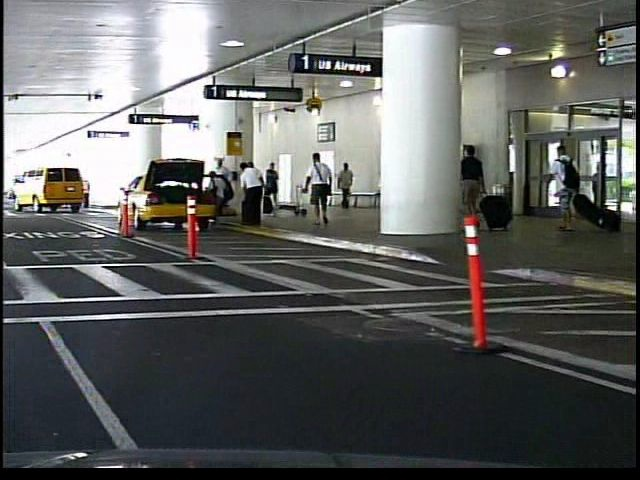person: (536, 142, 578, 237), (299, 150, 333, 227), (458, 139, 484, 230), (334, 159, 353, 212)
